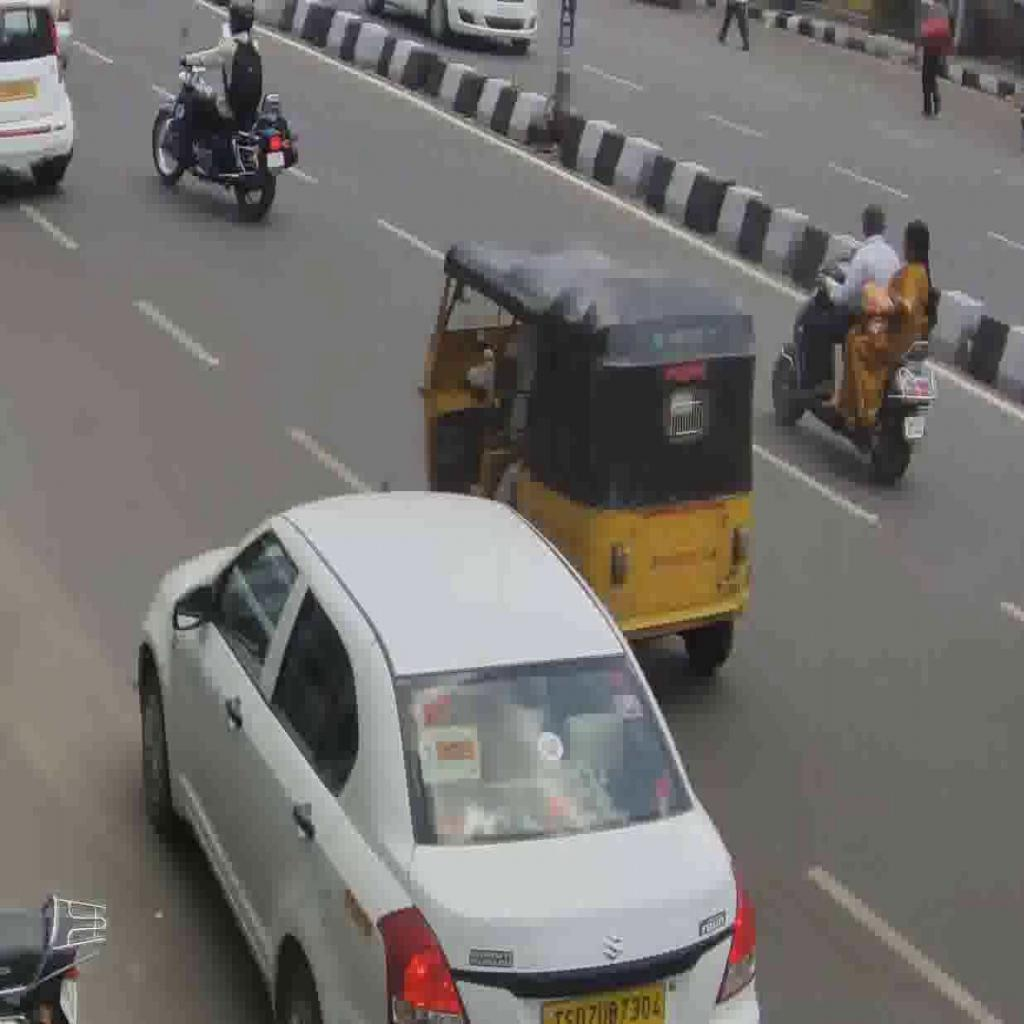helmet: (770, 250, 940, 488), (150, 53, 288, 224)
